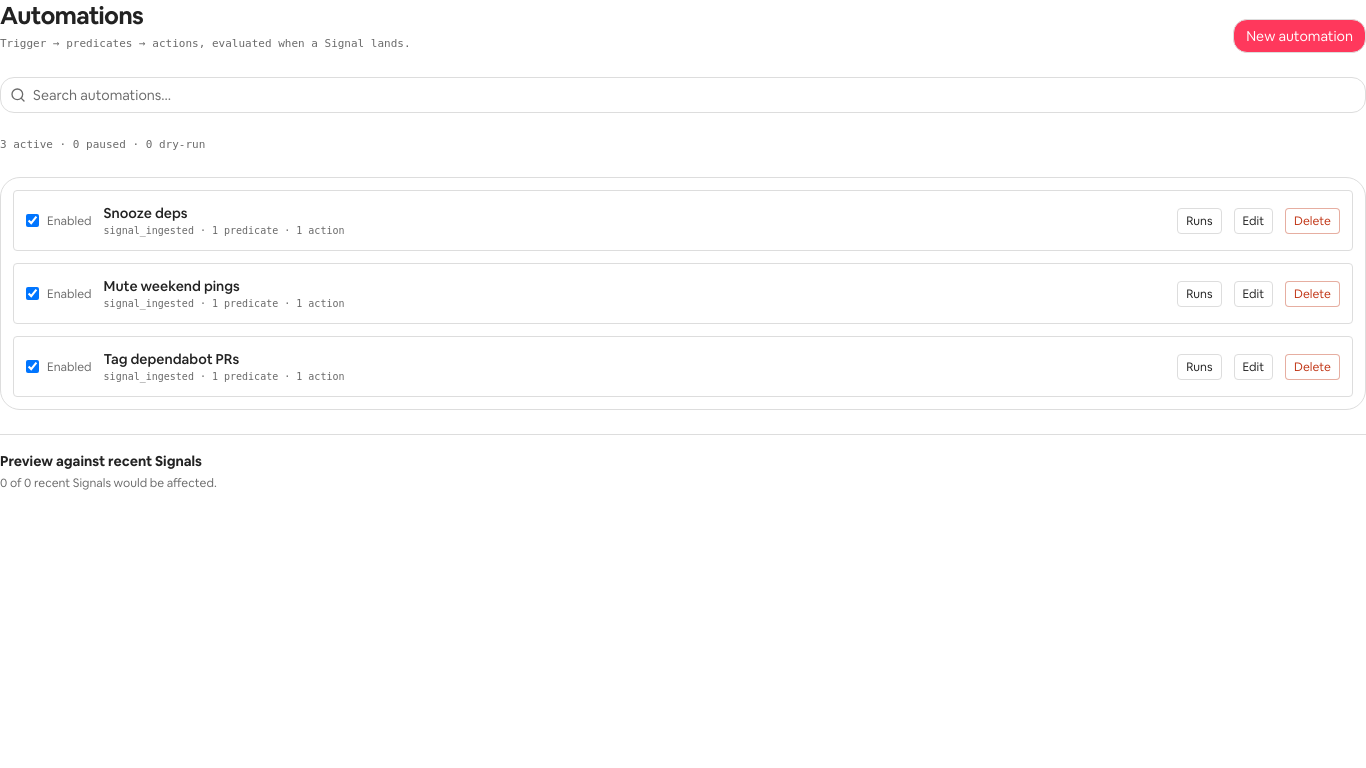
Test case: AutomationsPanel delete-with-history-purge › opens a confirmation dialog instead of deleting on first click
Click the button with aria-label "Delete Snooze deps" at x=1313, y=220, box top-left (1285, 208), bottom-right (1340, 234)
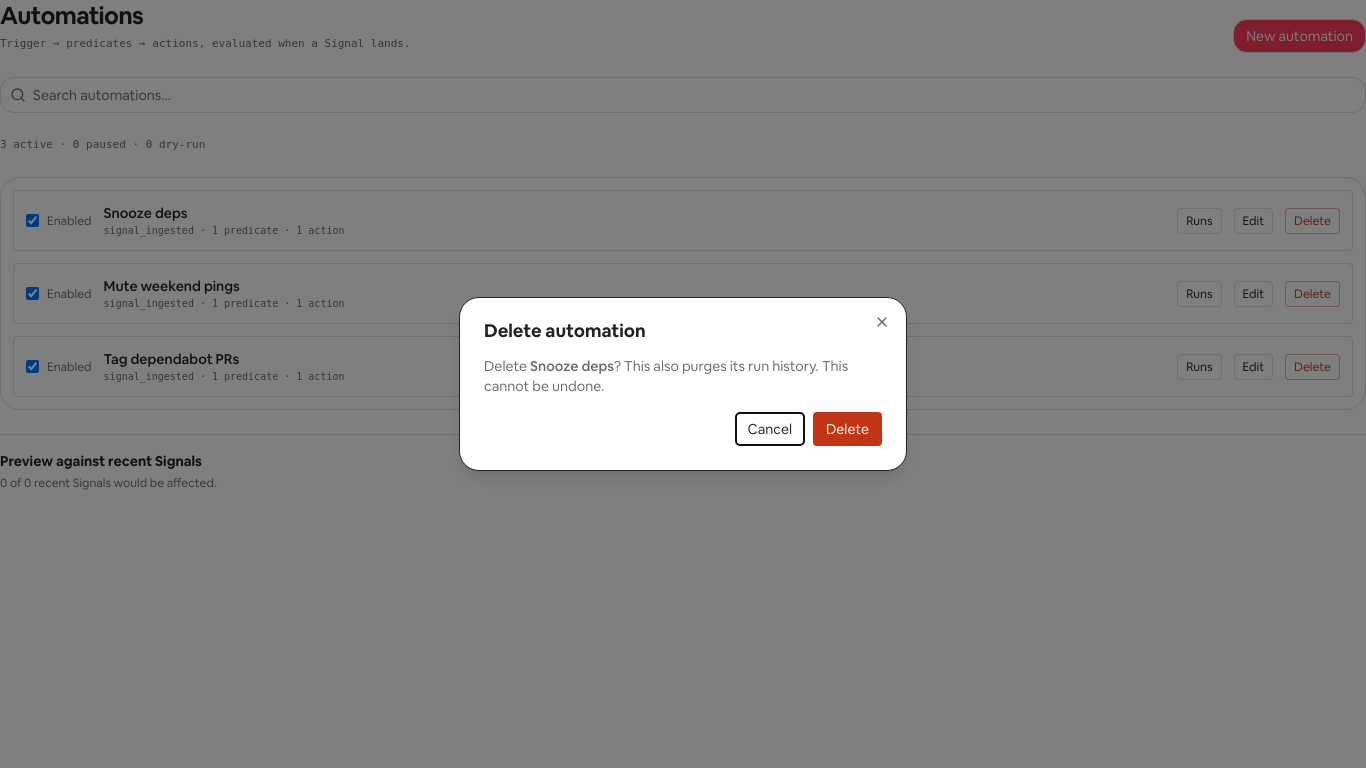
Expected: the text "Snooze deps" below "active ·" is shown, top-left (104, 204), bottom-right (188, 222)
Expected: the heading "Delete automation" is shown, top-left (484, 319), bottom-right (646, 342)
Expected: the text "also purges its run history" is shown, top-left (484, 357), bottom-right (848, 395)
